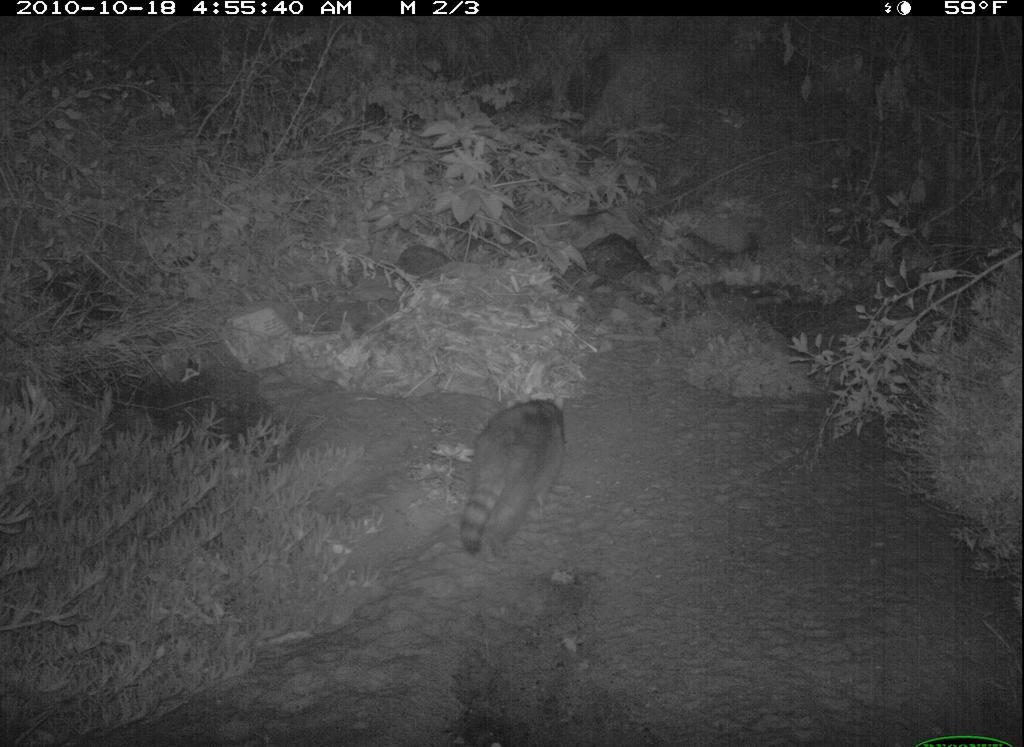raccoon: (446, 383, 591, 564)
